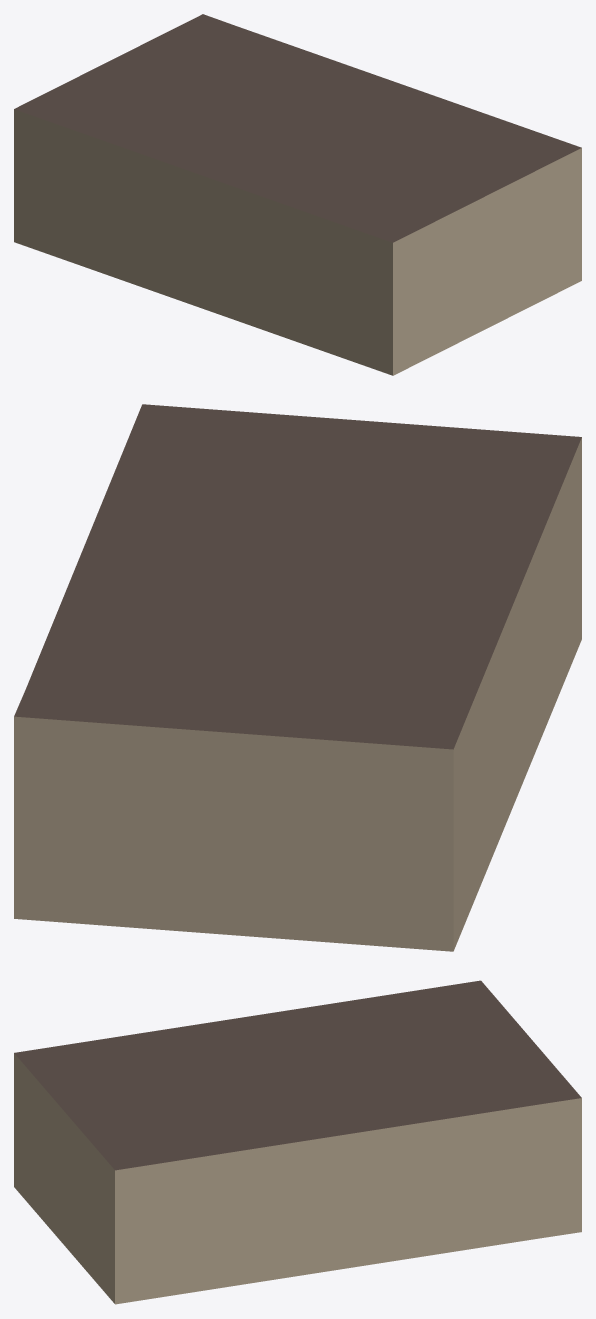
3 renders of one model, top to bottom at view 1: azimuth 30°, elevation 25°; view 2: azimuth 150°, elevation 25°; view 3: azimuth 270°, elevation 25°, orthographic. The views are drawn at different scales.
Parts seen in each view (by area): view 1: HP-w438965276; view 2: HP-w438965276; view 3: HP-w438965276.
Part boxes in pixels (x1,y1,x2,y2): HP-w438965276: (14, 14, 581, 375); HP-w438965276: (14, 404, 581, 951); HP-w438965276: (14, 980, 581, 1304).
Bounding box in the file's own units: 27.35 × 9 × 34.56.
